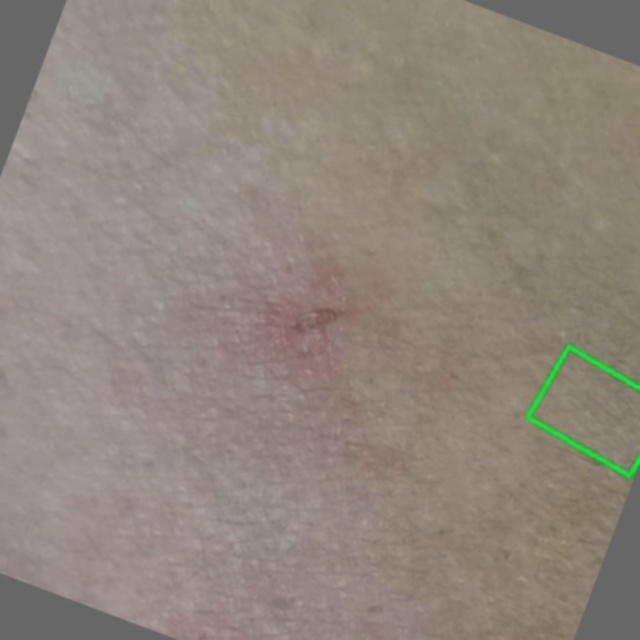Seborrheic Dermatitis: (527, 346, 639, 477)
